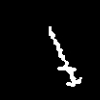double_crochet: (49, 27, 81, 86)
